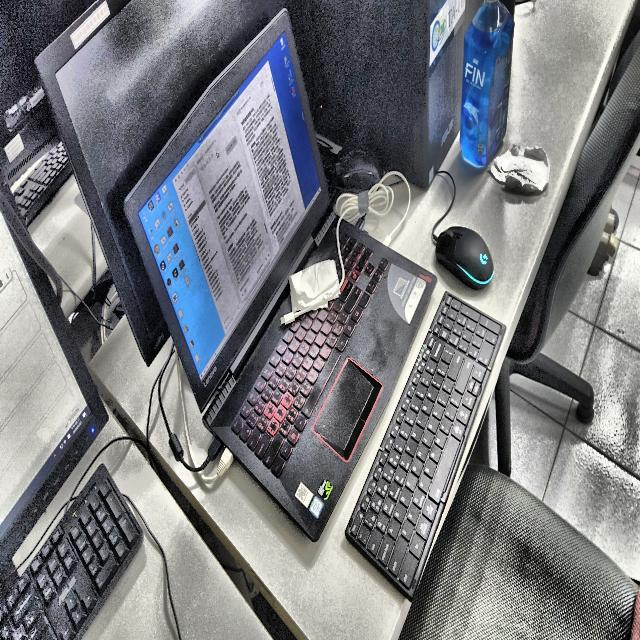Keyboard: (346, 293, 503, 599), (0, 465, 143, 640)
Laptop: (124, 9, 437, 541)
MOUSE: (436, 227, 494, 289)
Screen: (36, 0, 246, 362), (0, 185, 107, 561)
